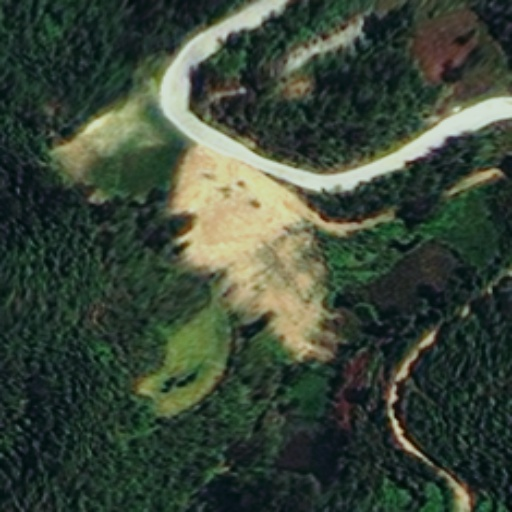landslide: (174, 144, 336, 356), (51, 86, 153, 189)
